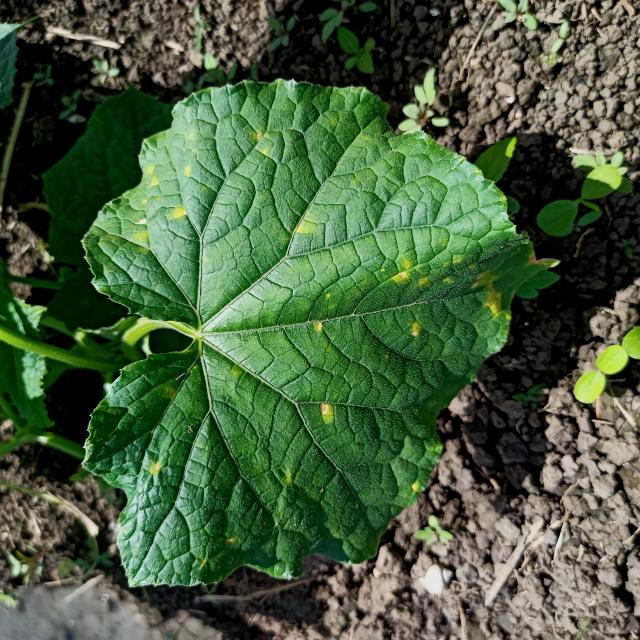disease_cucumber: (390, 252, 504, 340), (124, 152, 196, 252), (319, 401, 336, 425), (292, 221, 312, 238), (148, 461, 162, 474), (314, 318, 324, 331)
